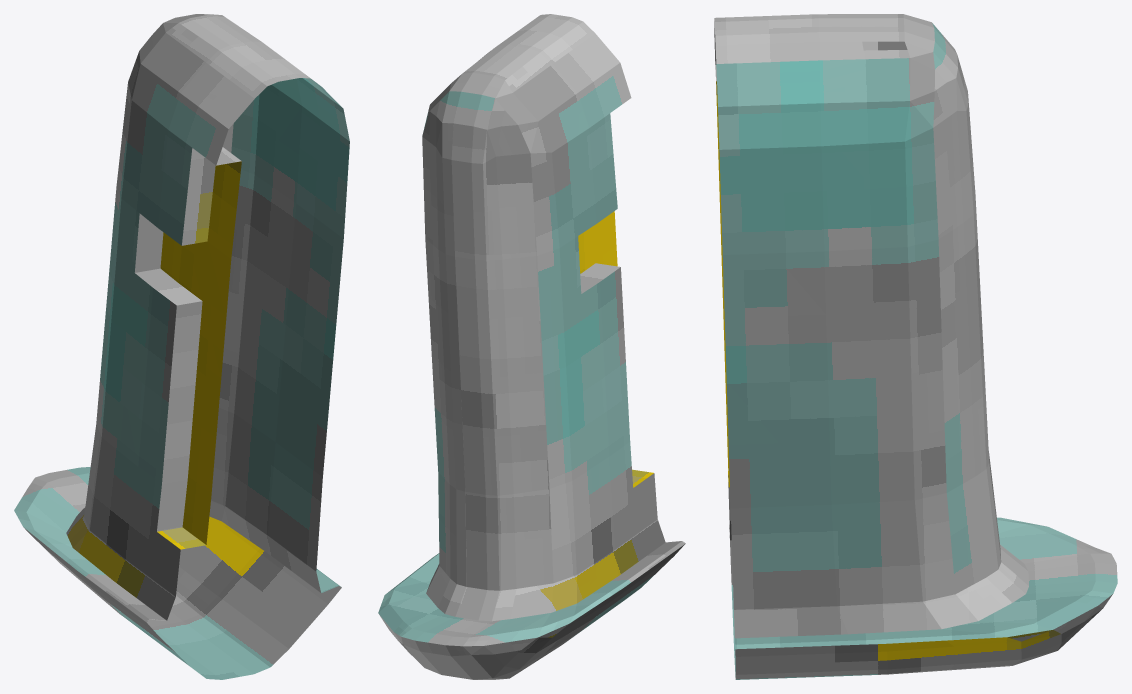
File: TombBreak.gltf
3 renders of one model, left to right at view 1: azimuth 30°, elevation 25°; view 2: azimuth 150°, elevation 25°; view 3: azimuth 270°, elevation 25°, orthographic. The views are drawn at different scales.
Visible parts, largest first — view 1: tombBreakL; view 2: tombBreakL; view 3: tombBreakL.
Part boxes in pixels (x1=…): tombBreakL: x1=14, y1=14, x2=349, y2=679; tombBreakL: x1=378, y1=14, x2=685, y2=679; tombBreakL: x1=714, y1=14, x2=1117, y2=679.
Size of the model in its own units: 1.86 by 5.29 by 2.92.
1 material, 1 textured.
